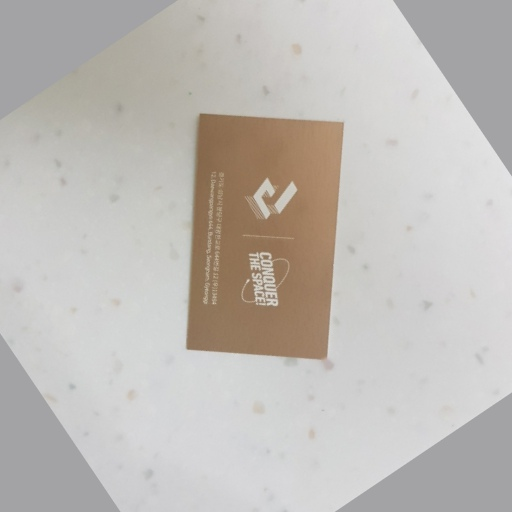Paper_2: (182, 103, 346, 383)
